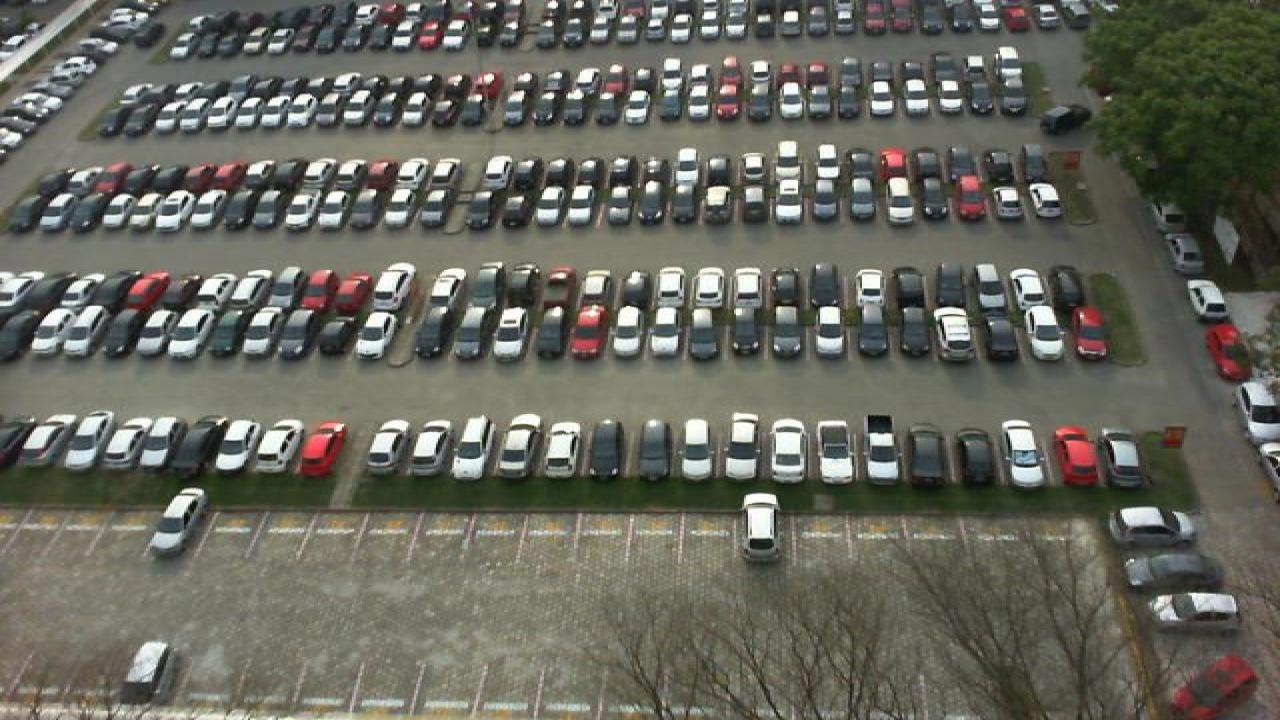Car: (146, 487, 206, 559), (1106, 504, 1200, 548), (1122, 551, 1218, 592), (1148, 591, 1246, 630), (122, 641, 174, 703), (1000, 418, 1046, 488), (452, 414, 498, 483), (26, 411, 80, 469), (364, 419, 418, 477), (496, 412, 542, 480), (860, 414, 904, 485), (140, 415, 192, 474), (62, 412, 112, 472), (172, 418, 222, 478), (740, 491, 782, 562), (1052, 424, 1098, 487), (410, 417, 458, 477), (722, 410, 762, 482), (256, 417, 304, 476), (30, 305, 82, 359), (212, 417, 258, 477), (768, 415, 808, 484), (678, 415, 718, 483), (814, 416, 854, 484), (298, 421, 346, 477), (354, 304, 402, 360), (414, 305, 462, 361), (104, 414, 150, 472), (930, 305, 976, 363), (122, 307, 172, 360), (582, 419, 624, 482), (1104, 428, 1148, 488), (164, 306, 212, 361), (70, 306, 120, 358), (1022, 304, 1066, 362), (956, 423, 996, 486), (368, 260, 416, 312), (908, 423, 948, 485), (540, 421, 582, 479), (636, 419, 674, 482), (1206, 322, 1248, 379), (208, 307, 252, 361), (244, 305, 286, 360), (1236, 381, 1280, 433), (1070, 303, 1110, 360), (280, 306, 322, 360), (494, 305, 534, 361), (568, 303, 608, 359), (454, 305, 494, 360), (532, 305, 572, 360), (610, 306, 650, 361), (810, 305, 850, 360), (980, 307, 1020, 361), (22, 270, 76, 310), (316, 307, 356, 360), (726, 305, 764, 360), (854, 305, 892, 360), (654, 305, 690, 362), (894, 306, 932, 360), (422, 266, 468, 310), (770, 306, 808, 359), (62, 271, 112, 311), (690, 305, 726, 360), (1188, 278, 1232, 323), (1048, 262, 1088, 310), (972, 261, 1010, 311), (8, 189, 50, 234), (270, 264, 308, 312), (98, 270, 142, 310), (124, 270, 168, 310), (200, 266, 240, 310), (1008, 264, 1048, 308), (468, 262, 504, 310), (806, 262, 842, 310), (934, 261, 968, 311), (954, 173, 988, 223), (304, 268, 342, 312), (78, 190, 116, 234), (182, 189, 220, 233), (472, 186, 508, 232), (46, 190, 84, 233), (116, 191, 154, 234), (1026, 180, 1064, 222), (766, 264, 802, 308), (852, 266, 888, 310), (148, 190, 184, 234), (844, 182, 880, 226), (506, 264, 540, 310), (540, 264, 574, 310), (656, 264, 690, 310), (692, 264, 726, 310), (730, 264, 764, 310), (606, 182, 640, 228), (738, 180, 772, 226), (254, 188, 288, 233), (352, 188, 386, 233), (882, 180, 916, 225), (238, 270, 274, 312), (576, 268, 612, 310), (918, 182, 954, 224), (670, 180, 702, 227), (894, 264, 928, 308), (392, 187, 426, 231), (504, 185, 538, 229), (702, 182, 736, 226), (770, 182, 804, 226), (806, 181, 840, 225), (220, 189, 254, 232), (320, 189, 354, 232), (168, 271, 206, 309), (990, 184, 1028, 222), (536, 184, 568, 229), (566, 184, 598, 228), (638, 184, 670, 228), (616, 268, 650, 309), (288, 189, 320, 232), (336, 274, 372, 312), (426, 189, 458, 231)
